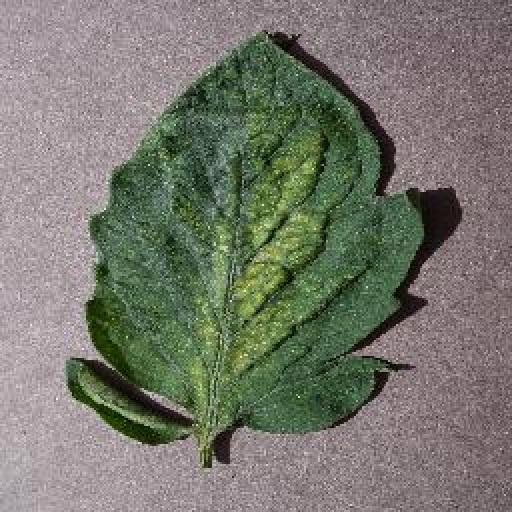disease_tomato: (86, 31, 424, 437)
